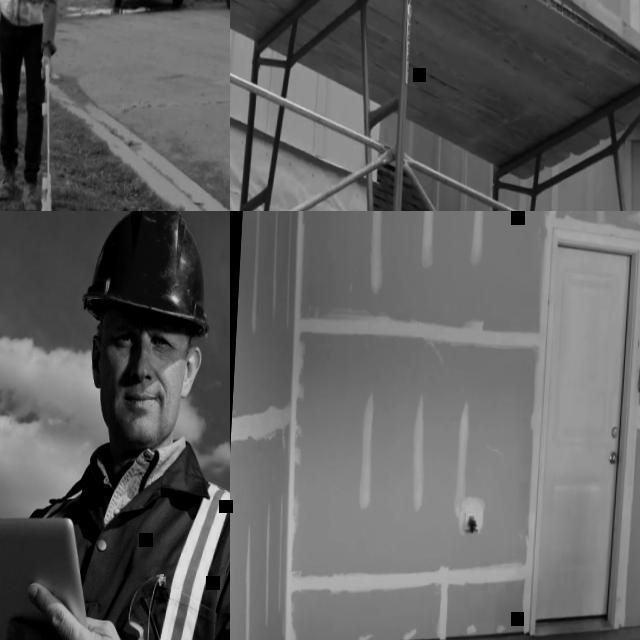helmet: (81, 211, 217, 338)
vest: (0, 471, 230, 640), (0, 0, 69, 29)
